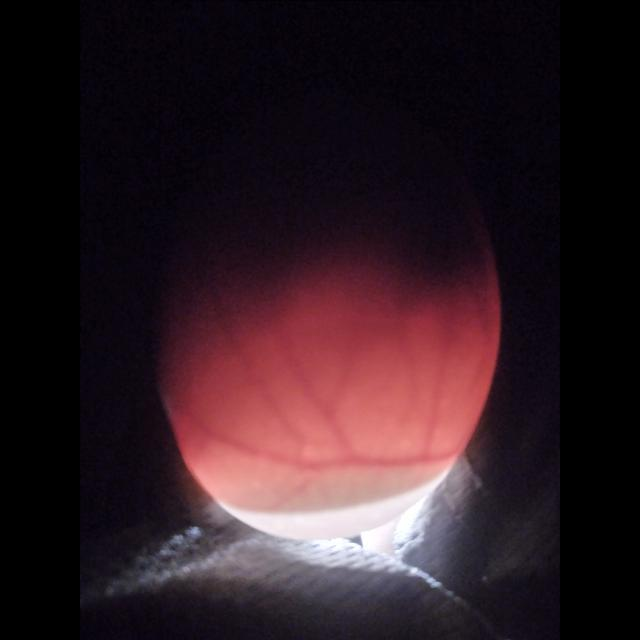Fertile: (162, 87, 498, 543)
